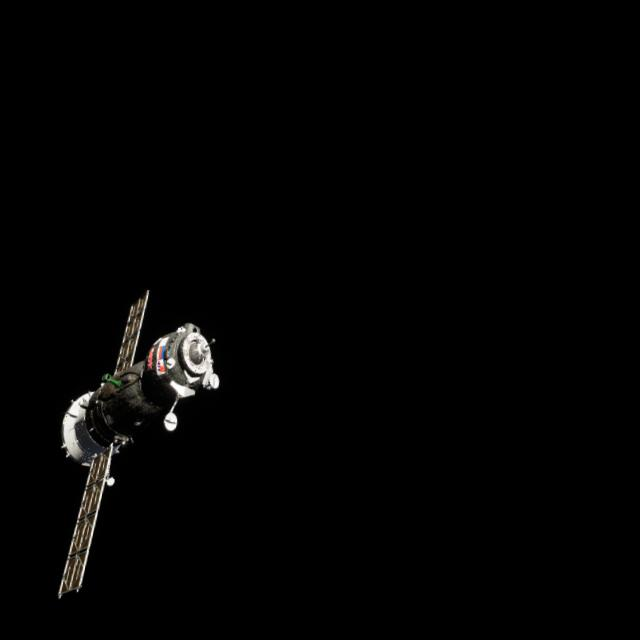Satellites revolving around earth: (29, 275, 236, 617)
